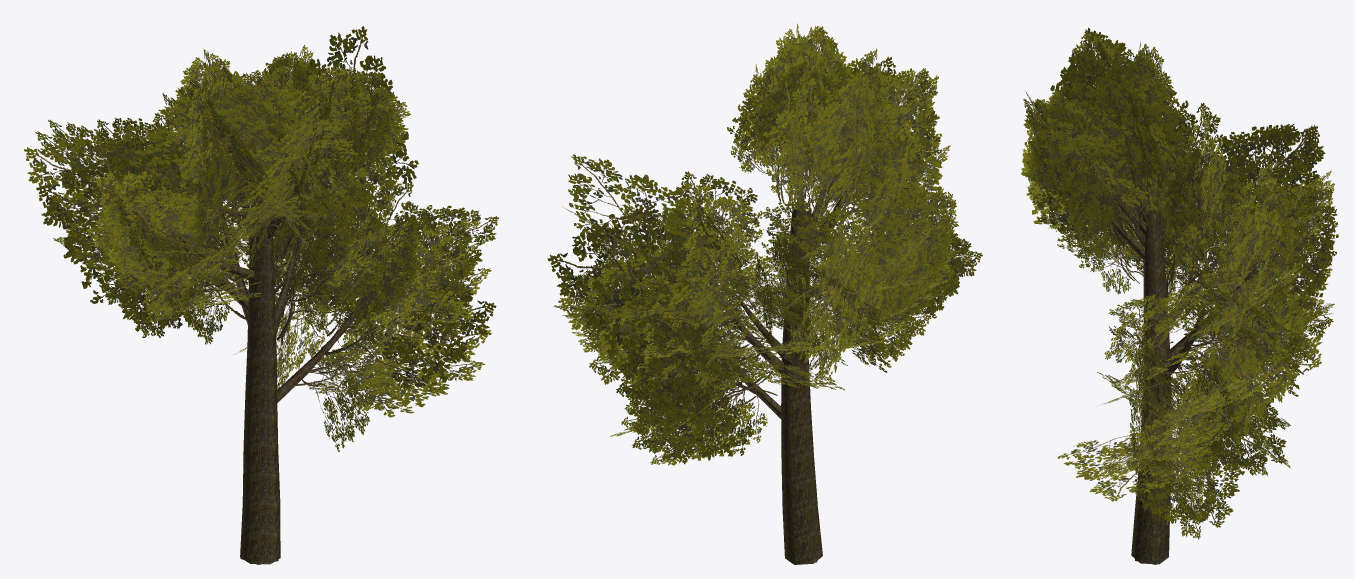
The model's file is far.glb.
The picture shows the model from 3 angles, left to right: view 1: azimuth 30°, elevation 25°; view 2: azimuth 150°, elevation 25°; view 3: azimuth 270°, elevation 25°; orthographic projection. The views are drawn at different scales.
Visible parts, largest first — view 1: lod1, lod2; view 2: lod1, lod2; view 3: lod1, lod2.
Part boxes in pixels (bbox=[...]): lod1: bbox=[81, 45, 480, 564]; lod2: bbox=[24, 26, 498, 564]; lod1: bbox=[561, 23, 982, 564]; lod2: bbox=[547, 26, 956, 562]; lod1: bbox=[1021, 30, 1335, 564]; lod2: bbox=[1023, 27, 1338, 564].
Size of the model in its own units: 36.31 by 46.25 by 27.43.
2 materials, 2 textured.
